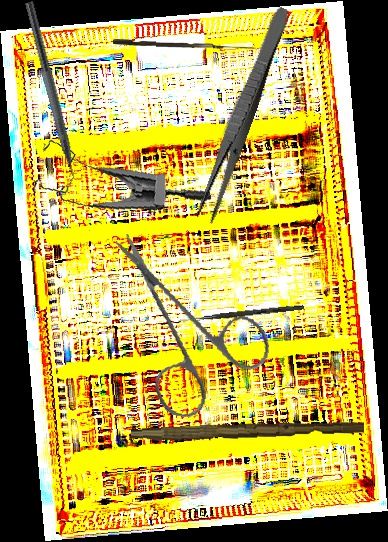Chopper: (11, 0, 85, 197)
Dressing Forceps: (192, 3, 293, 225)
Hook Surgical: (178, 303, 304, 325), (112, 38, 257, 50)
Iris Scissors: (88, 232, 285, 430)
Scalpel Handle: (130, 416, 365, 447)
Speculum: (26, 115, 212, 231)
